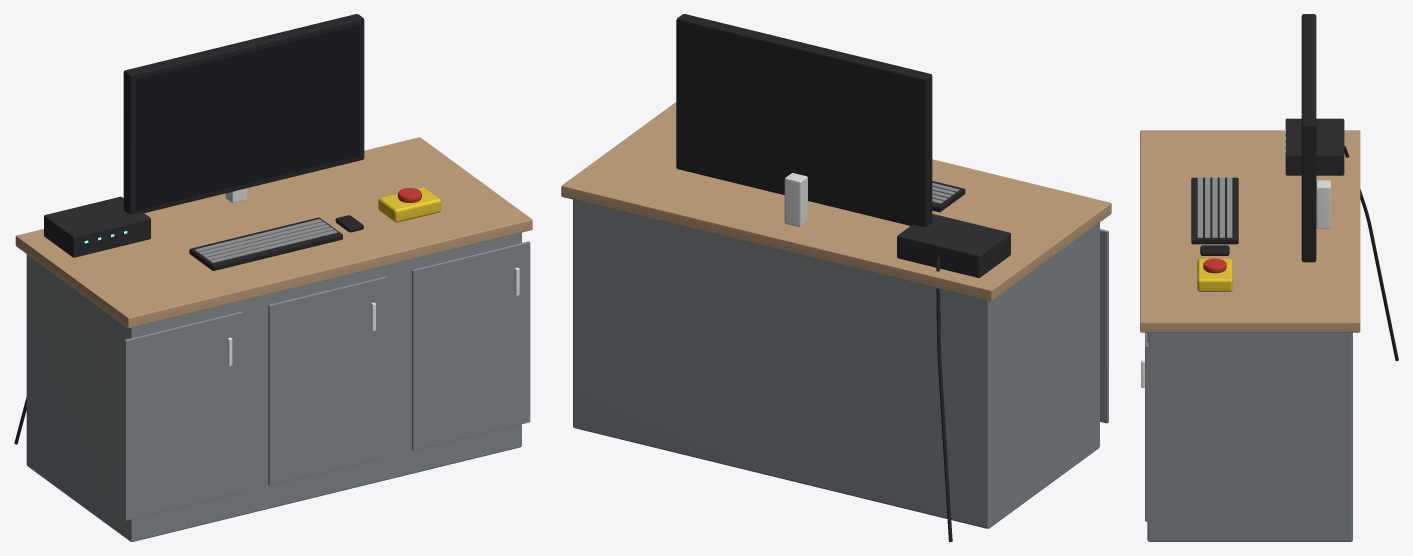
Rendered from dyno_desk.glb.
3 renders of one model, left to right at view 1: azimuth 30°, elevation 25°; view 2: azimuth 150°, elevation 25°; view 3: azimuth 270°, elevation 25°, orthographic. The views are drawn at different scales.
Visible parts, largest first — view 1: SM_dyno_desk; view 2: SM_dyno_desk; view 3: SM_dyno_desk.
Part boxes in pixels (x1,y1,x2,y2): SM_dyno_desk: (14, 14, 532, 541); SM_dyno_desk: (561, 14, 1111, 541); SM_dyno_desk: (1140, 14, 1398, 541).
Size of the model in its own units: 1.55 by 1.43 by 0.8809.
